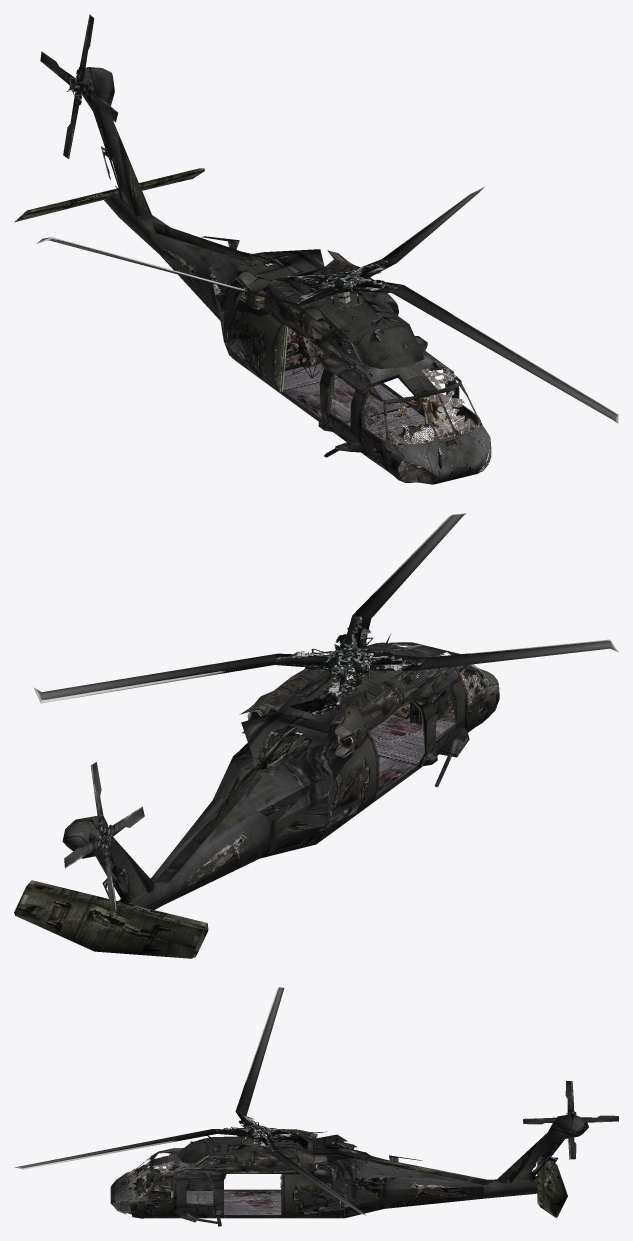
The model's file is BHDF.glb.
3 renders of one model, top to bottom at view 1: azimuth 30°, elevation 25°; view 2: azimuth 150°, elevation 25°; view 3: azimuth 270°, elevation 25°, orthographic. The views are drawn at different scales.
Parts seen in each view (by area): view 1: _BHDF; view 2: _BHDF; view 3: _BHDF.
Boxes of the visible parts, x1,y1,x2,y2 form: _BHDF: (14,14,618,484); _BHDF: (14,513,618,958); _BHDF: (14,987,618,1226).
Size of the model in its own units: 15.56 by 6.87 by 25.58.
Materials: 4 (4 with a texture image).
